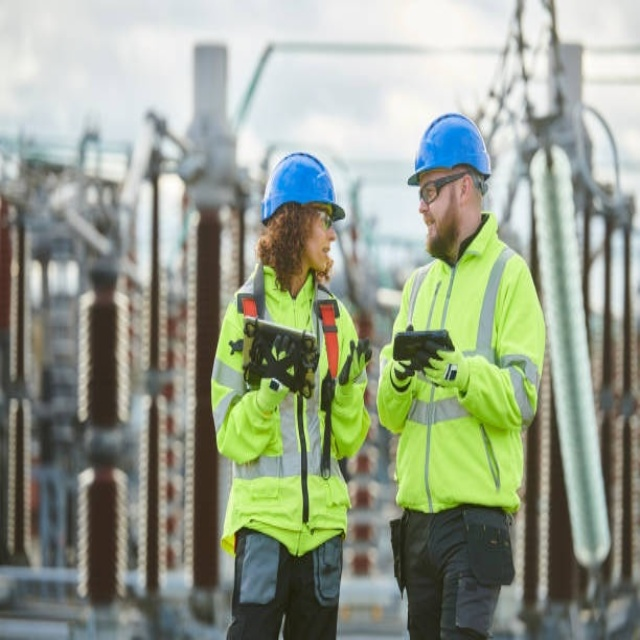Gafas: (419, 171, 477, 205), (309, 206, 334, 230)
Guantes: (419, 346, 471, 395), (255, 358, 299, 414), (337, 336, 373, 387), (390, 358, 414, 391)
Sin_mascara: (420, 213, 449, 248), (315, 238, 335, 265)
